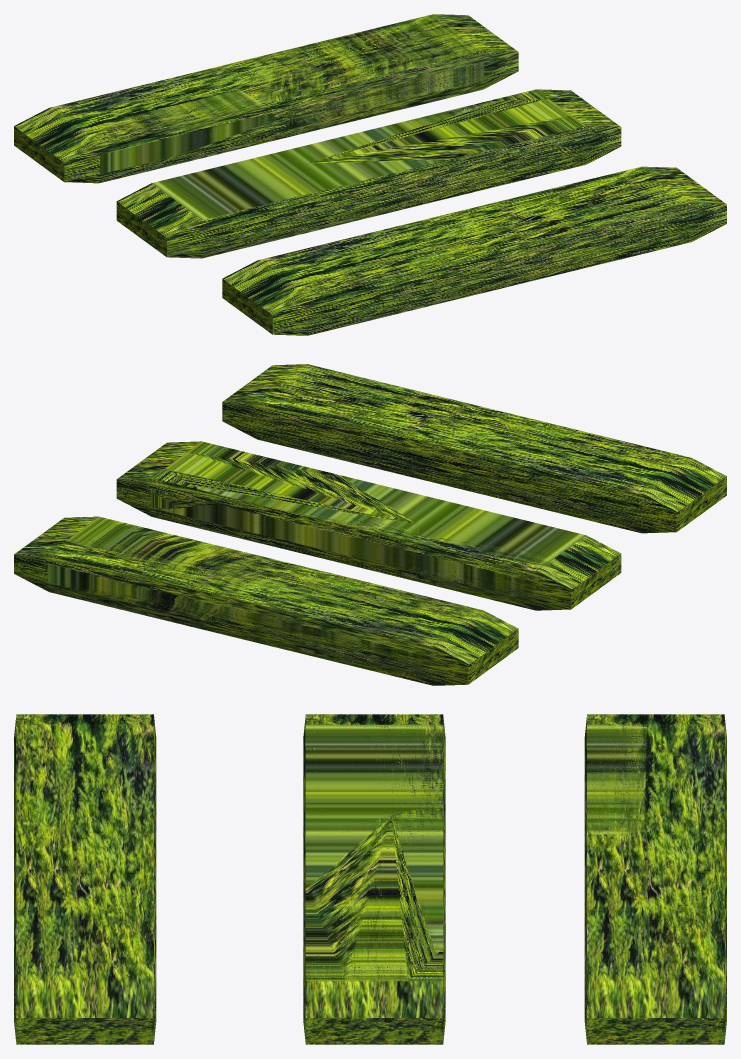
File: Bridges.fbx
The picture shows the model from 3 angles, top to bottom: view 1: azimuth 30°, elevation 25°; view 2: azimuth 150°, elevation 25°; view 3: azimuth 270°, elevation 25°; orthographic projection. The views are drawn at different scales.
Parts seen in each view (by area): view 1: pCube108, pCube109, pCube107, pCube109_cell.008, pCube107_cell.004, pCube109_cell.006, pCube107_cell.001, pCube109_cell, pCube107_cell.002, pCube107_cell.009, pCube107_cell.007, pCube107_cell.006 (+3 smaller); view 2: pCube108, pCube109, pCube107_cell.004, pCube109_cell, pCube107_cell.006, pCube109_cell.005, pCube109_cell.008, pCube107, pCube107_cell.001, pCube107_cell.005, pCube107_cell.002, pCube109_cell.006 (+5 smaller); view 3: pCube108, pCube109, pCube107_cell.004, pCube107, pCube107_cell.001, pCube109_cell.006, pCube107_cell.007, pCube109_cell.008, pCube109_cell, pCube107_cell.006, pCube107_cell.002, pCube107_cell.003_cell.004 (+2 smaller).
Part boxes in pixels (x1=…): pCube108: x1=222, y1=166, x2=726, y2=335; pCube109: x1=14, y1=14, x2=518, y2=183; pCube107: x1=116, y1=89, x2=621, y2=258; pCube109_cell.008: x1=243, y1=30, x2=518, y2=134; pCube107_cell.004: x1=286, y1=99, x2=593, y2=175; pCube109_cell.006: x1=42, y1=90, x2=275, y2=183; pCube107_cell.001: x1=156, y1=158, x2=355, y2=231; pCube109_cell: x1=249, y1=14, x2=488, y2=69; pCube107_cell.002: x1=125, y1=159, x2=281, y2=246; pCube107_cell.009: x1=152, y1=209, x2=390, y2=258; pCube107_cell.007: x1=449, y1=110, x2=620, y2=159; pCube107_cell.006: x1=116, y1=148, x2=295, y2=226; pCube108: x1=222, y1=364, x2=726, y2=533; pCube109: x1=14, y1=531, x2=518, y2=685; pCube107_cell.004: x1=148, y1=452, x2=419, y2=555; pCube109_cell: x1=14, y1=536, x2=245, y2=625; pCube107_cell.006: x1=347, y1=536, x2=582, y2=610; pCube109_cell.005: x1=198, y1=586, x2=496, y2=685; pCube109_cell.008: x1=37, y1=516, x2=314, y2=585; pCube107: x1=144, y1=471, x2=611, y2=610; pCube107_cell.001: x1=418, y1=501, x2=610, y2=561; pCube107_cell.005: x1=138, y1=507, x2=350, y2=565; pCube107_cell.002: x1=424, y1=536, x2=609, y2=600; pCube109_cell.006: x1=303, y1=572, x2=518, y2=653; pCube108: x1=14, y1=714, x2=156, y2=1044; pCube109: x1=584, y1=714, x2=726, y2=1044; pCube107_cell.004: x1=305, y1=808, x2=445, y2=1013; pCube107: x1=303, y1=714, x2=443, y2=1044; pCube107_cell.001: x1=314, y1=714, x2=420, y2=831; pCube109_cell.006: x1=584, y1=714, x2=647, y2=851; pCube107_cell.007: x1=305, y1=889, x2=370, y2=1044; pCube109_cell.008: x1=584, y1=833, x2=670, y2=1044; pCube109_cell: x1=662, y1=857, x2=726, y2=1044; pCube107_cell.006: x1=420, y1=714, x2=445, y2=842; pCube107_cell.002: x1=337, y1=714, x2=425, y2=805; pCube107_cell.003_cell.004: x1=377, y1=999, x2=429, y2=1044.
Bounding box in the file's own units: 2084 × 170 × 2068.
